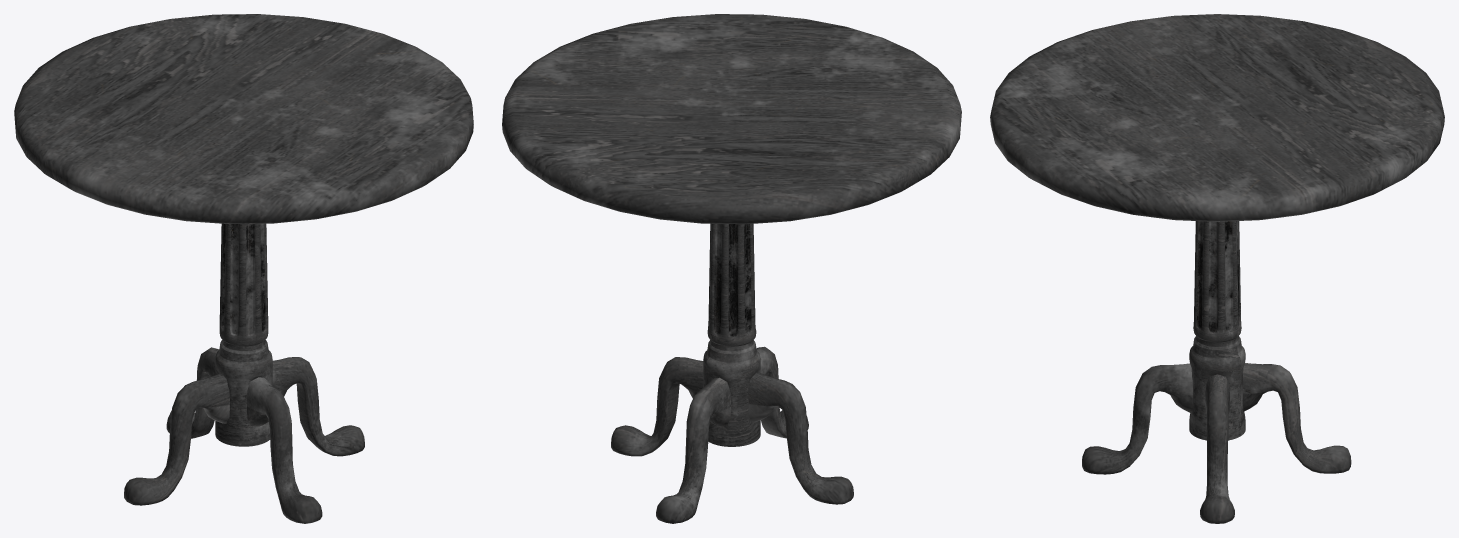
The model's file is tea_table.fbx.
3 renders of one model, left to right at view 1: azimuth 30°, elevation 25°; view 2: azimuth 150°, elevation 25°; view 3: azimuth 270°, elevation 25°, orthographic.
Visible parts, largest first — view 1: tea_table; view 2: tea_table; view 3: tea_table.
Part boxes in pixels (x1,y1,x2,y2): tea_table: (14, 14, 473, 523); tea_table: (502, 14, 961, 523); tea_table: (990, 14, 1444, 523).
Bounding box in the file's own units: 106 × 93.17 × 106.
